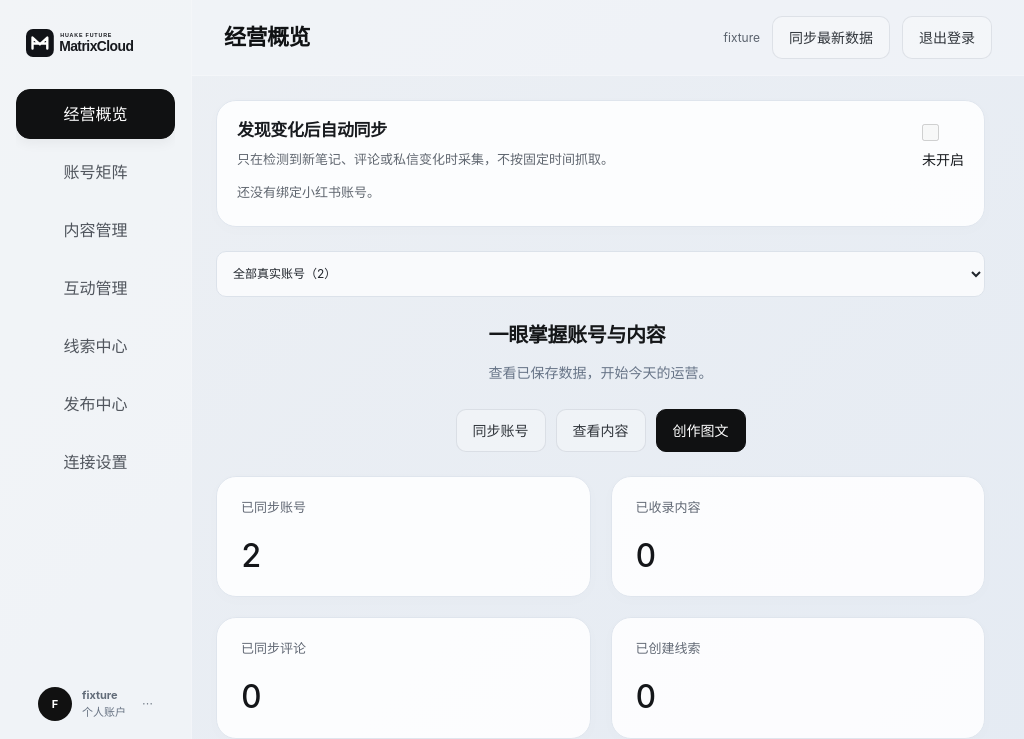
does not let late initial status loading erase freshly submitted account results
The width and height of the screenshot is (1024, 739).
Expected: the text "已同步账号" is shown, [241, 499, 306, 515]
What coordinates should you click on to do the following:
click the button "账号矩阵"
I would click on:
 (96, 172)
Its box is [16, 147, 175, 197].
(page scrolled)
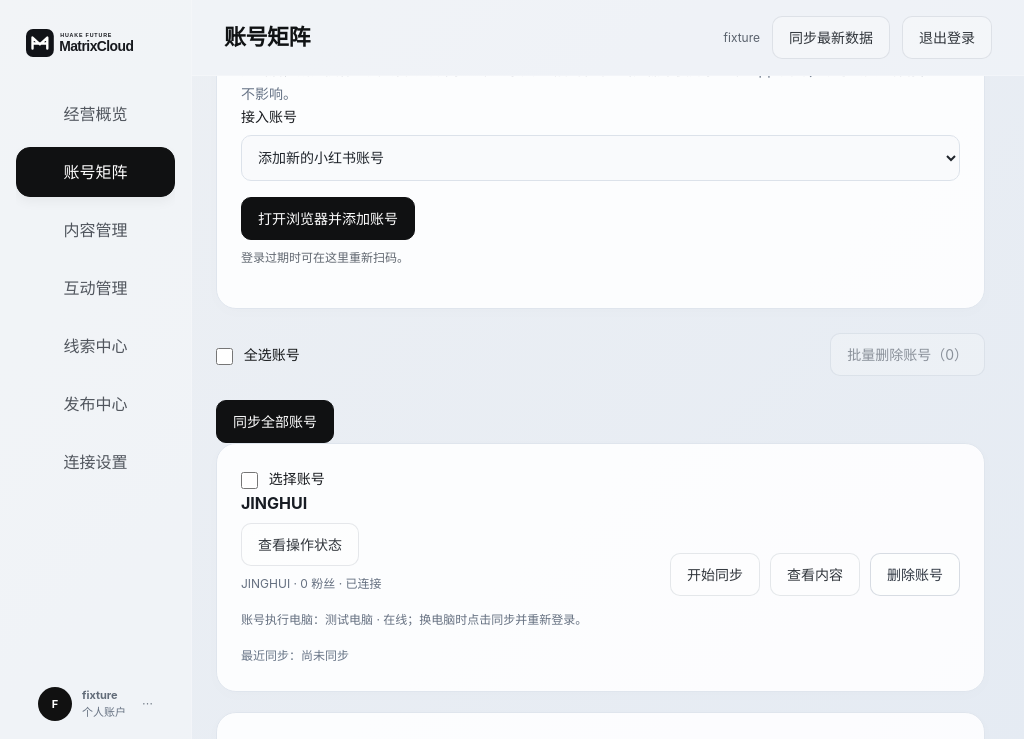
Now the heading "JINGHUI" is shown, box [241, 492, 307, 512]
What coordinates should you click on to do the following:
click the button "同步全部账号"
I would click on:
 (275, 422)
Its box is [216, 400, 334, 443].
(page scrolled)
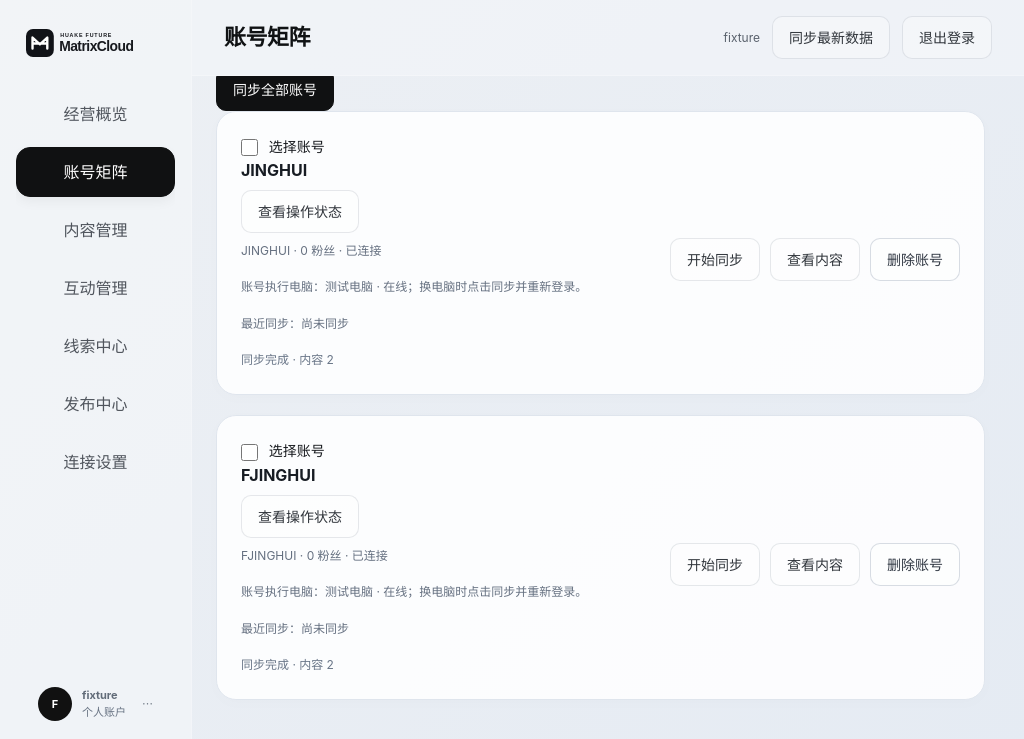
Now the 1st message "同步完成 · 内容 2" is shown, box [241, 352, 334, 367]
Now the 2nd message "同步完成 · 内容 2" is shown, box [241, 657, 334, 672]
